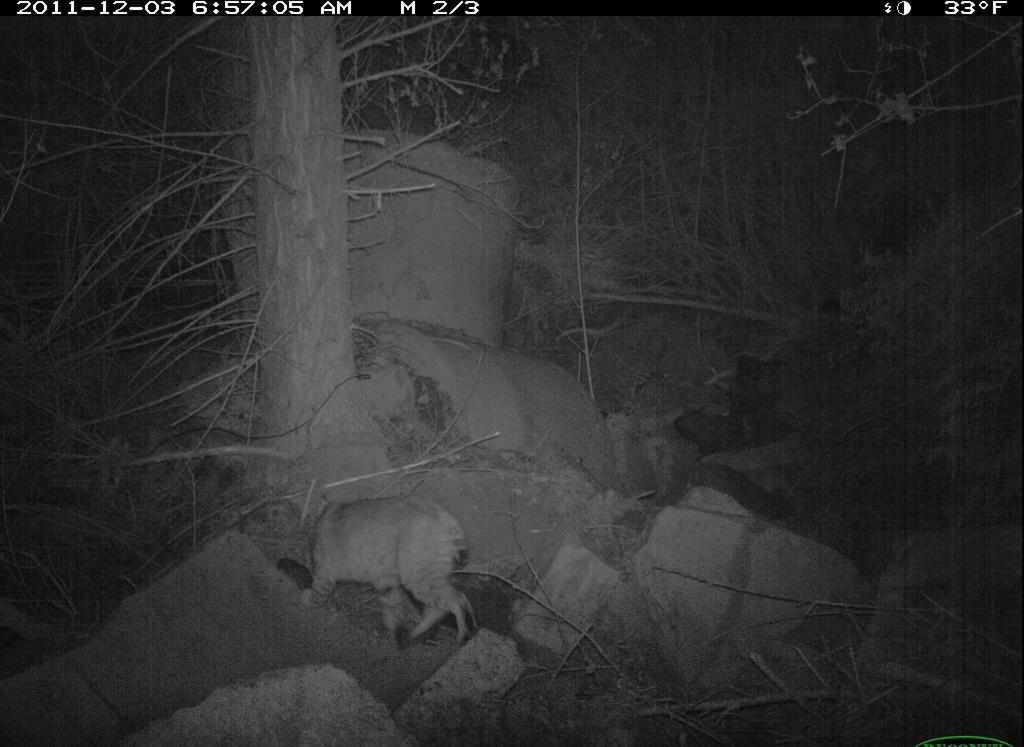bobcat: (274, 495, 481, 648)
